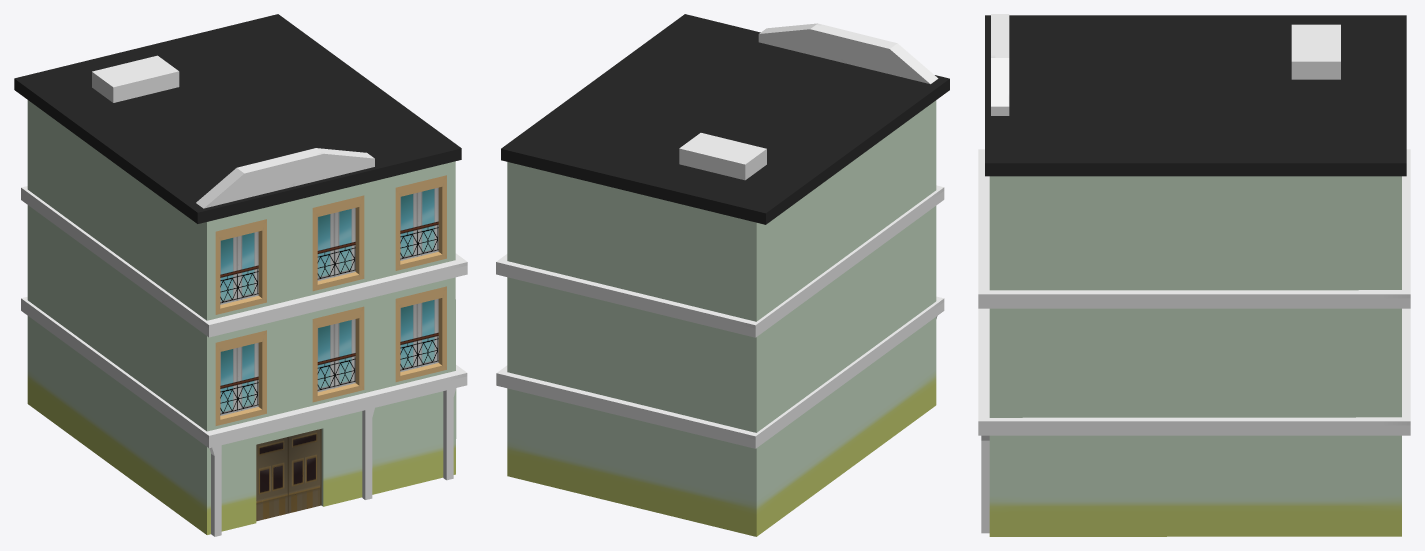
Rendered from French Balcony House 2.fbx.
3 renders of one model, left to right at view 1: azimuth 30°, elevation 25°; view 2: azimuth 150°, elevation 25°; view 3: azimuth 270°, elevation 25°, orthographic. The views are drawn at different scales.
Visible parts, largest first — view 1: French Balcony House 2; view 2: French Balcony House 2; view 3: French Balcony House 2.
Part boxes in pixels (bbox=[...]): French Balcony House 2: bbox=[14, 14, 467, 536]; French Balcony House 2: bbox=[496, 14, 949, 536]; French Balcony House 2: bbox=[978, 14, 1410, 536].
Size of the model in its own units: 2.98 by 3.75 by 3.63.
